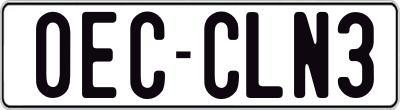0: (33, 11, 71, 101)
3: (338, 9, 375, 99)
C: (203, 12, 244, 99), (128, 12, 167, 99)
E: (80, 11, 114, 98)
L: (246, 11, 289, 103)
N: (292, 11, 326, 99)
